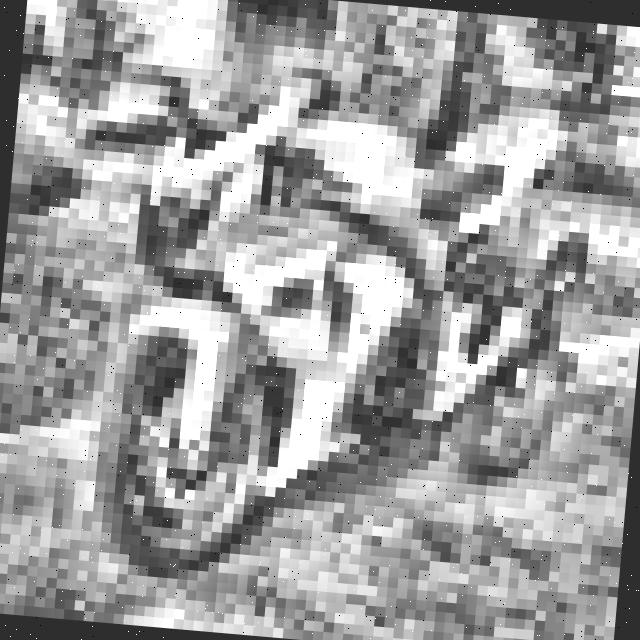mopeds: (55, 55, 585, 602)
